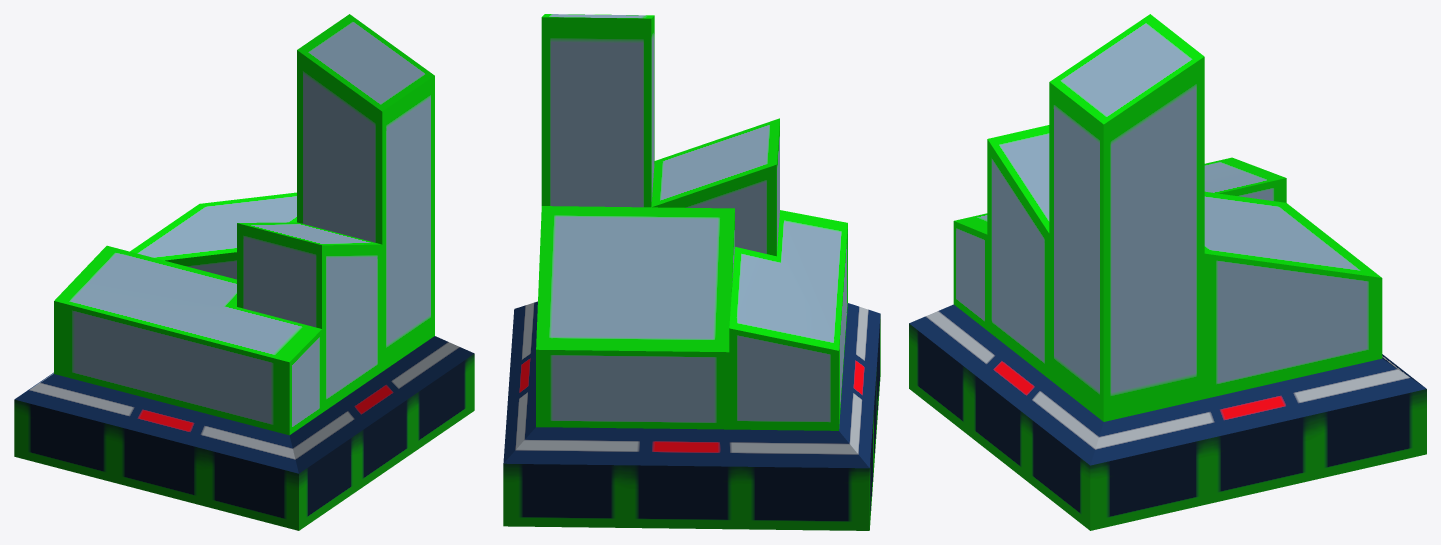
File: tsmaps.ico.obj
3 renders of one model, left to right at view 1: azimuth 30°, elevation 25°; view 2: azimuth 150°, elevation 25°; view 3: azimuth 270°, elevation 25°, orthographic. The views are drawn at different scales.
Size of the model in its own units: 4.87 by 4.48 by 4.87.
Materials: 1 (1 with a texture image).
